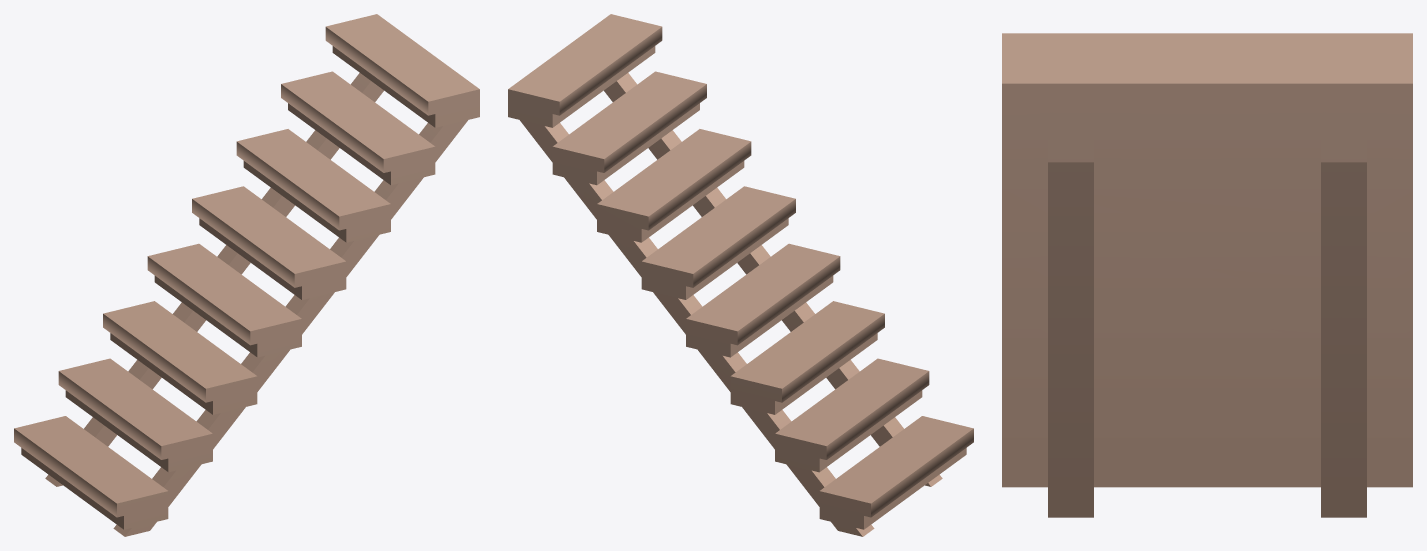
The model's file is stairs-wood.glb.
3 renders of one model, left to right at view 1: azimuth 30°, elevation 25°; view 2: azimuth 150°, elevation 25°; view 3: azimuth 270°, elevation 25°, orthographic. The views are drawn at different scales.
Parts seen in each view (by area): view 1: stairs-wood; view 2: stairs-wood; view 3: stairs-wood.
Boxes of the visible parts, x1,y1,x2,y2 form: stairs-wood: (14, 14, 479, 536); stairs-wood: (508, 14, 973, 536); stairs-wood: (1002, 33, 1412, 517).
Bounding box in the file's own units: 1.02 × 1 × 0.5.
